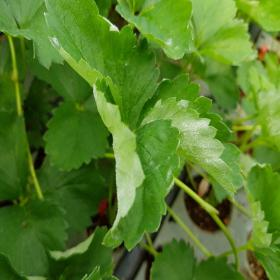Powdery Mildew Leaf: (93, 75, 181, 252), (44, 0, 161, 127), (136, 72, 245, 203), (114, 0, 194, 61), (243, 162, 279, 279)
